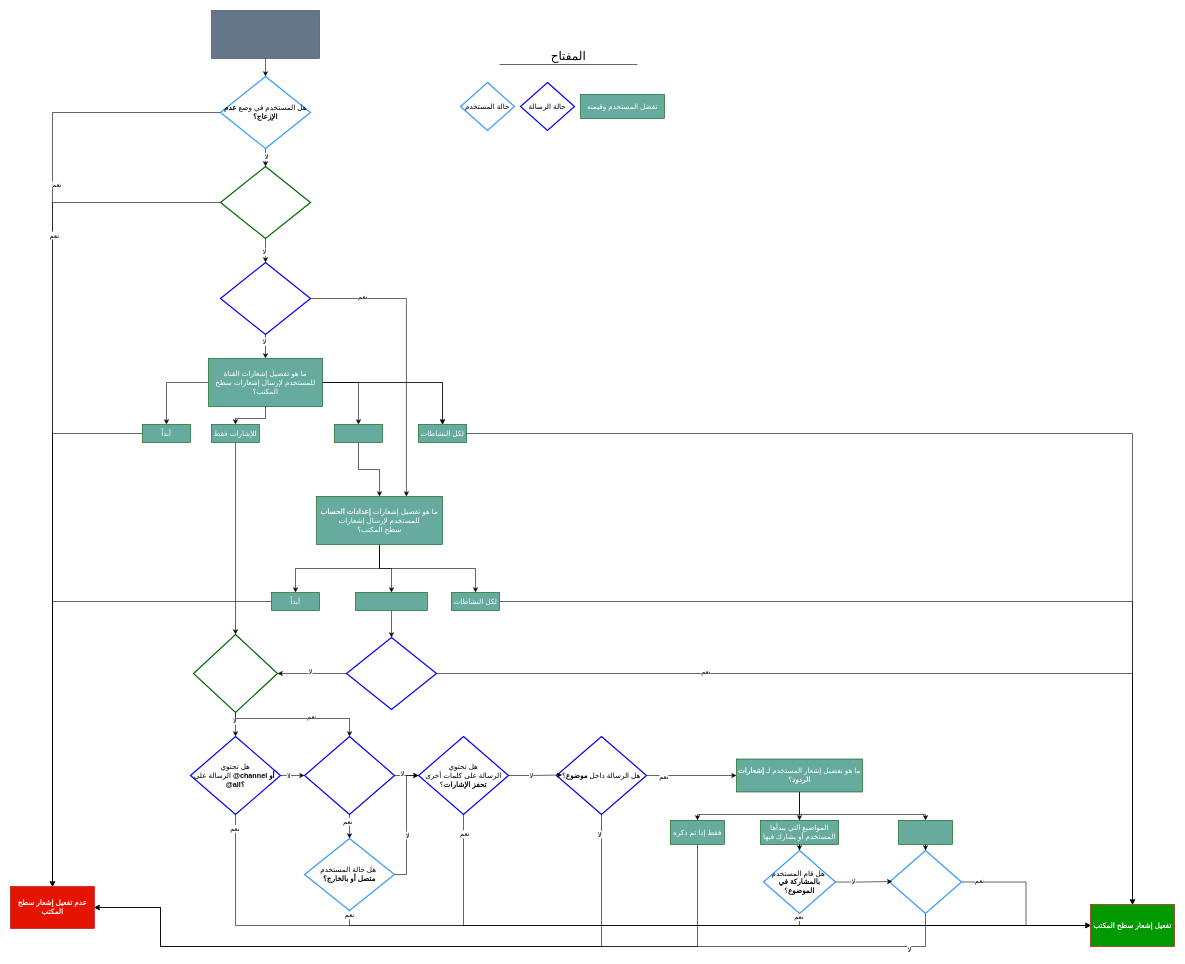
Image size: 1185x964. Some labels were removed from this diagram. The centre of each missing label's shape, as x and y in pixels:
"Is it a Direct Message ?" goes at point 391,673.
"التفضيل العام" goes at point 358,433.
"المواضيع التي يبدأها المستخدم" goes at point 925,832.
"تجاهل الإشارات لـ @channel ، @here و @all في هذه القناة؟" goes at point 235,673.
"تم نشر رسالة. هل ينبغي تفعيل إشعار سطح المكتب؟" goes at point 265,34.
"للإشارات والرسائل المباشرة فقط" goes at point 391,601.
"هل القناة مكتومة؟" goes at point 265,202.
"هل تحتوي الرسالة على @here؟" goes at point 349,775.
"هل قام المستخدم ببدء الموضوع ؟" goes at point 925,882.
"هل هي رسالة مباشرة ؟" goes at point 265,298.
